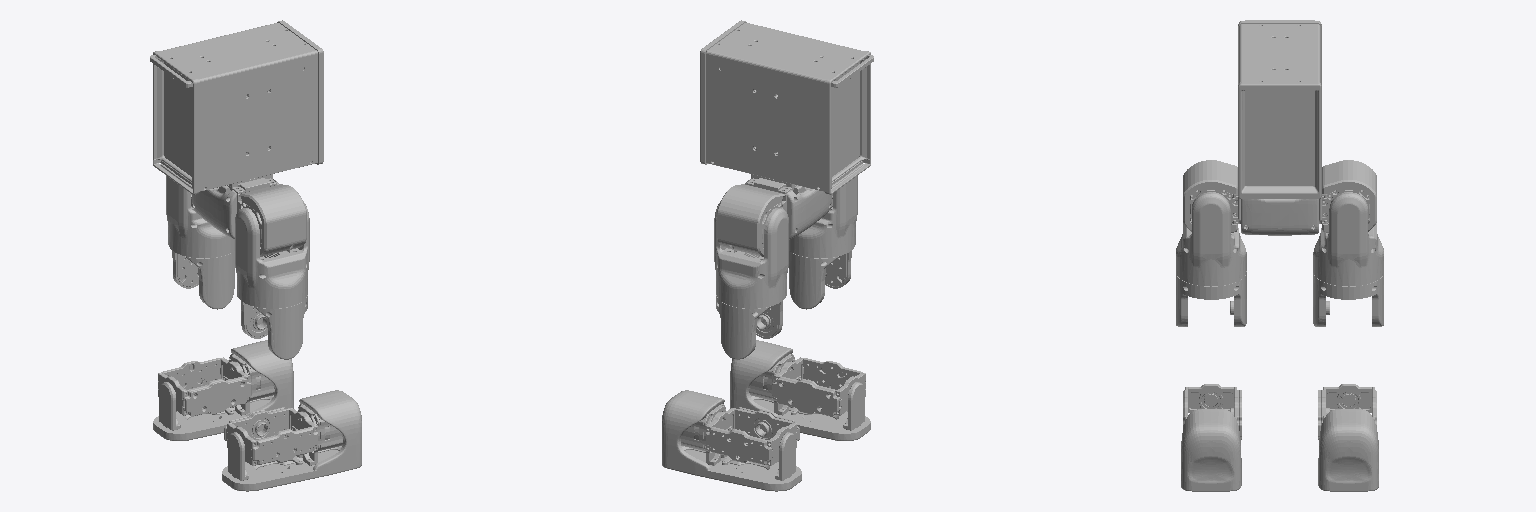
URDF robot description (pi_12dof_260120):
<?xml version="1.0" encoding="utf-8"?>
 <!-- This URDF was automatically created by SolidWorks to URDF Exporter! Originally created by Stephen Brawner (brawner@gmail.com) 
      Commit Version: 1.6.0-4-g7f85cfe  Build Version: 1.6.7995.38578
      For more information, please see http://wiki.ros.org/sw_urdf_exporter -->
 <robot name="pi_12dof_260120">
  <mujoco>
    <compiler meshdir="../meshes/" balanceinertia="true" discardvisual="false" inertiafromgeom="false" fusestatic="false" />
  </mujoco>

   <link name="base_link">
     <inertial>
       <origin xyz="-0.00014435 -1.66e-06 -0.04034123" rpy="0 0 0" />
       <mass value="0.98610884" />
       <inertia ixx="0.0012749" ixy="-2.85e-06" ixz="3.57e-06" iyy="0.00075879" iyz="0.0" izz="0.00116235" />
     </inertial>
     <visual>
       <origin xyz="0 0 0" rpy="0 0 0" />
       <geometry>
         <mesh filename="../meshes/base_link.STL" />
       </geometry>
       <material name="">
         <color rgba="0.752941176470588 0.752941176470588 0.752941176470588 1" />
       </material>
     </visual>
     <collision>
       <origin xyz="0 0 0" rpy="0 0 0" />
       <geometry>
         <mesh filename="../meshes/base_link.STL" />
       </geometry>
     </collision>
   </link>
   <link name="torso_link">
     <inertial>
       <origin xyz="0.00171631 -3.741e-05 0.07462587" rpy="0 0 0" />
       <mass value="1.44421644" />
       <inertia ixx="0.00478105" ixy="-1.64e-06" ixz="6.41e-06" iyy="0.00627031" iyz="-2.36e-06" izz="0.00482813" />
     </inertial>
     <visual>
       <origin xyz="0 0 0" rpy="0 0 0" />
       <geometry>
         <mesh filename="../meshes/torso_link.STL" />
       </geometry>
       <material name="">
         <color rgba="0.752941176470588 0.752941176470588 0.752941176470588 1" />
       </material>
     </visual>
     <collision>
       <origin xyz="0 0 0" rpy="0 0 0" />
       <geometry>
         <mesh filename="../meshes/torso_link.STL" />
       </geometry>
     </collision>
   </link>
   <joint name="torso_joint" type="fixed">
     <origin xyz="0 0 0" rpy="0 0 0" />
     <parent link="base_link" />
     <child link="torso_link" />
     <axis xyz="0 0 0" />
   </joint>
   <link name="r_hip_pitch_link">
     <inertial>
       <origin xyz="7.92e-05 -0.03190261 9.097e-05" rpy="0 0 0" />
       <mass value="0.45931392" />
       <inertia ixx="0.00027163" ixy="1.14e-06" ixz="-6.6e-07" iyy="0.00026494" iyz="-4.1e-07" izz="0.00027956" />
     </inertial>
     <visual>
       <origin xyz="0 0 0" rpy="0 0 0" />
       <geometry>
         <mesh filename="../meshes/r_hip_pitch_link.STL" />
       </geometry>
       <material name="">
         <color rgba="0.752941176470588 0.752941176470588 0.752941176470588 1" />
       </material>
     </visual>
     <collision>
       <origin xyz="0 0 0" rpy="0 0 0" />
       <geometry>
         <mesh filename="../meshes/r_hip_pitch_link.STL" />
       </geometry>
     </collision>
   </link>
   <joint name="r_hip_pitch_joint" type="revolute">
     <origin xyz="0 -0.0475 -0.0435" rpy="0 0 0" />
     <parent link="base_link" />
     <child link="r_hip_pitch_link" />
     <axis xyz="0 1 0" />
     <limit lower="-3.12" upper="2.94" effort="20" velocity="5.45" />
   <dynamics armature="0.01" />
   </joint>
   <link name="r_hip_roll_link">
     <inertial>
       <origin xyz="0.00102172 -0.00033797 -0.05845832" rpy="0 0 0" />
       <mass value="0.55820116" />
       <inertia ixx="0.00062111" ixy="-1.14e-06" ixz="-3.416e-05" iyy="0.00074025" iyz="-5.5e-07" izz="0.00041298" />
     </inertial>
     <visual>
       <origin xyz="0 0 0" rpy="0 0 0" />
       <geometry>
         <mesh filename="../meshes/r_hip_roll_link.STL" />
       </geometry>
       <material name="">
         <color rgba="0.752941176470588 0.752941176470588 0.752941176470588 1" />
       </material>
     </visual>
     <collision>
       <origin xyz="0 0 0" rpy="0 0 0" />
       <geometry>
         <mesh filename="../meshes/r_hip_roll_link.STL" />
       </geometry>
     </collision>
   </link>
   <joint name="r_hip_roll_joint" type="revolute">
     <origin xyz="0 -0.034 0" rpy="0 0 0" />
     <parent link="r_hip_pitch_link" />
     <child link="r_hip_roll_link" />
     <axis xyz="1 0 0" />
     <limit lower="-3.14" upper="0.17" effort="20" velocity="5.45" />
   <dynamics armature="0.01" />
   </joint>
   <link name="r_thigh_link">
     <inertial>
       <origin xyz="0.00064557 -0.00075206 -0.02084055" rpy="0 0 0" />
       <mass value="0.15484273" />
       <inertia ixx="0.00018778" ixy="4.5e-07" ixz="-8.8e-07" iyy="0.00010058" iyz="-5.6e-07" izz="0.00016124" />
     </inertial>
     <visual>
       <origin xyz="0 0 0" rpy="0 0 0" />
       <geometry>
         <mesh filename="../meshes/r_thigh_link.STL" />
       </geometry>
       <material name="">
         <color rgba="0.752941176470588 0.752941176470588 0.752941176470588 1" />
       </material>
     </visual>
     <collision>
       <origin xyz="0 0 0" rpy="0 0 0" />
       <geometry>
         <mesh filename="../meshes/r_thigh_link.STL" />
       </geometry>
     </collision>
   </link>
   <joint name="r_thigh_joint" type="revolute">
     <origin xyz="-0.00035 0 -0.0974" rpy="0 0 0" />
     <parent link="r_hip_roll_link" />
     <child link="r_thigh_link" />
     <axis xyz="0 0 1" />
     <limit lower="-2.87" upper="2.87" effort="20" velocity="5.45" />
   <dynamics armature="0.01" />
   </joint>
   <link name="r_calf_link">
     <inertial>
       <origin xyz="-1.001e-05 -0.00237049 -0.06661243" rpy="0 0 0" />
       <mass value="0.85852308" />
       <inertia ixx="0.00416941" ixy="-6e-08" ixz="-9.9e-06" iyy="0.00414652" iyz="-5.94e-06" izz="0.00042931" />
     </inertial>
     <visual>
       <origin xyz="0 0 0" rpy="0 0 0" />
       <geometry>
         <mesh filename="../meshes/r_calf_link.STL" />
       </geometry>
       <material name="">
         <color rgba="0.752941176470588 0.752941176470588 0.752941176470588 1" />
       </material>
     </visual>
     <collision>
       <origin xyz="0 0 0" rpy="0 0 0" />
       <geometry>
         <mesh filename="../meshes/r_calf_link.STL" />
       </geometry>
     </collision>
   </link>
   <joint name="r_calf_joint" type="revolute">
     <origin xyz="0 0 -0.045" rpy="0 0 0" />
     <parent link="r_thigh_link" />
     <child link="r_calf_link" />
     <axis xyz="0 1 0" />
     <limit lower="-2.14" upper="2.35" effort="20" velocity="5.45" />
   <dynamics armature="0.01" />
   </joint>
   <link name="r_ankle_pitch_link">
     <inertial>
       <origin xyz="0.00503044 0.00051345 -0.00016685" rpy="0 0 0" />
       <mass value="0.16352634" />
       <inertia ixx="0.00011538" ixy="4.2e-07" ixz="1.65e-06" iyy="0.00020824" iyz="-6.3e-07" izz="0.00028929" />
     </inertial>
     <visual>
       <origin xyz="0 0 0" rpy="0 0 0" />
       <geometry>
         <mesh filename="../meshes/r_ankle_pitch_link.STL" />
       </geometry>
       <material name="">
         <color rgba="0.752941176470588 0.752941176470588 0.752941176470588 1" />
       </material>
     </visual>
   </link>
   <joint name="r_ankle_pitch_joint" type="revolute">
     <origin xyz="0 0 -0.14" rpy="0 0 0" />
     <parent link="r_calf_link" />
     <child link="r_ankle_pitch_link" />
     <axis xyz="0 1 0" />
     <limit lower="-0.97" upper="0.92" effort="20" velocity="5.45" />
   <dynamics armature="0.01" />
   </joint>
   <link name="r_ankle_roll_link">
     <inertial>
       <origin xyz="0.0046213 8.211e-05 -0.01502099" rpy="0 0 0" />
       <mass value="0.61662552" />
       <inertia ixx="0.00054662" ixy="-8.4e-07" ixz="-0.00025529" iyy="0.00150792" iyz="8e-07" izz="0.0013343" />
     </inertial>
     <visual>
       <origin xyz="0 0 0" rpy="0 0 0" />
       <geometry>
         <mesh filename="../meshes/r_ankle_roll_link.STL" />
       </geometry>
       <material name="">
         <color rgba="0.752941176470588 0.752941176470588 0.752941176470588 1" />
       </material>
     </visual>
     <collision>
       <origin xyz="0 0 0" rpy="0 0 0" />
       <geometry>
         <mesh filename="../meshes/r_ankle_roll_link.STL" />
       </geometry>
     </collision>
   </link>
   <joint name="r_ankle_roll_joint" type="revolute">
     <origin xyz="0.051 0 0" rpy="0 0 0" />
     <parent link="r_ankle_pitch_link" />
     <child link="r_ankle_roll_link" />
     <axis xyz="1 0 0" />
     <limit lower="-0.78" upper="0.78" effort="20" velocity="5.45" />
   <dynamics armature="0.01" />
   </joint>
   <link name="l_hip_pitch_link">
     <inertial>
       <origin xyz="7.921e-05 0.03190246 -0.0001562" rpy="0 0 0" />
       <mass value="0.45931808" />
       <inertia ixx="0.00027163" ixy="-1.14e-06" ixz="-3.9e-07" iyy="0.00026494" iyz="-2.25e-06" izz="0.00027956" />
     </inertial>
     <visual>
       <origin xyz="0 0 0" rpy="0 0 0" />
       <geometry>
         <mesh filename="../meshes/l_hip_pitch_link.STL" />
       </geometry>
       <material name="">
         <color rgba="0.752941176470588 0.752941176470588 0.752941176470588 1" />
       </material>
     </visual>
     <collision>
       <origin xyz="0 0 0" rpy="0 0 0" />
       <geometry>
         <mesh filename="../meshes/l_hip_pitch_link.STL" />
       </geometry>
     </collision>
   </link>
   <joint name="l_hip_pitch_joint" type="revolute">
     <origin xyz="0 0.0475 -0.0435" rpy="0 0 0" />
     <parent link="base_link" />
     <child link="l_hip_pitch_link" />
     <axis xyz="0 1 0" />
     <limit lower="-3.12" upper="2.94" effort="20" velocity="5.45" />
   <dynamics armature="0.01" />
   </joint>
   <link name="l_hip_roll_link">
     <inertial>
       <origin xyz="0.00087873 1.341e-05 -0.05845832" rpy="0 0 0" />
       <mass value="0.55820115" />
       <inertia ixx="0.00062117" ixy="-1.07e-06" ixz="-3.583e-05" iyy="0.00074046" iyz="-1.6e-06" izz="0.00041325" />
     </inertial>
     <visual>
       <origin xyz="0 0 0" rpy="0 0 0" />
       <geometry>
         <mesh filename="../meshes/l_hip_roll_link.STL" />
       </geometry>
       <material name="">
         <color rgba="0.752941176470588 0.752941176470588 0.752941176470588 1" />
       </material>
     </visual>
     <collision>
       <origin xyz="0 0 0" rpy="0 0 0" />
       <geometry>
         <mesh filename="../meshes/l_hip_roll_link.STL" />
       </geometry>
     </collision>
   </link>
   <joint name="l_hip_roll_joint" type="revolute">
     <origin xyz="0 0.034 0" rpy="0 0 0" />
     <parent link="l_hip_pitch_link" />
     <child link="l_hip_roll_link" />
     <axis xyz="1 0 0" />
     <limit lower="-0.17" upper="3.14" effort="20" velocity="5.45" />
   <dynamics armature="0.01" />
   </joint>
   <link name="l_thigh_link">
     <inertial>
       <origin xyz="0.00071587 0.00075215 -0.0208406" rpy="0 0 0" />
       <mass value="0.15484236" />
       <inertia ixx="0.00018778" ixy="-2.2e-07" ixz="-1.13e-06" iyy="0.00010057" iyz="5.6e-07" izz="0.00016122" />
     </inertial>
     <visual>
       <origin xyz="0 0 0" rpy="0 0 0" />
       <geometry>
         <mesh filename="../meshes/l_thigh_link.STL" />
       </geometry>
       <material name="">
         <color rgba="0.752941176470588 0.752941176470588 0.752941176470588 1" />
       </material>
     </visual>
     <collision>
       <origin xyz="0 0 0" rpy="0 0 0" />
       <geometry>
         <mesh filename="../meshes/l_thigh_link.STL" />
       </geometry>
     </collision>
   </link>
   <joint name="l_thigh_joint" type="revolute">
     <origin xyz="-0.00035 0 -0.0974" rpy="0 0 0" />
     <parent link="l_hip_roll_link" />
     <child link="l_thigh_link" />
     <axis xyz="0 0 1" />
     <limit lower="-2.87" upper="2.87" effort="20" velocity="5.45" />
   <dynamics armature="0.01" />
   </joint>
   <link name="l_calf_link">
     <inertial>
       <origin xyz="-1.001e-05 0.00237048 -0.06661245" rpy="0 0 0" />
       <mass value="0.85852288" />
       <inertia ixx="0.00416941" ixy="6e-08" ixz="9.73e-06" iyy="0.00414651" iyz="5.94e-06" izz="0.00042931" />
     </inertial>
     <visual>
       <origin xyz="0 0 0" rpy="0 0 0" />
       <geometry>
         <mesh filename="../meshes/l_calf_link.STL" />
       </geometry>
       <material name="">
         <color rgba="0.752941176470588 0.752941176470588 0.752941176470588 1" />
       </material>
     </visual>
     <collision>
       <origin xyz="0 0 0" rpy="0 0 0" />
       <geometry>
         <mesh filename="../meshes/l_calf_link.STL" />
       </geometry>
     </collision>
   </link>
   <joint name="l_calf_joint" type="revolute">
     <origin xyz="0 0 -0.045" rpy="0 0 0" />
     <parent link="l_thigh_link" />
     <child link="l_calf_link" />
     <axis xyz="0 1 0" />
     <limit lower="-2.14" upper="2.35" effort="20" velocity="5.45" />
   <dynamics armature="0.01" />
   </joint>
   <link name="l_ankle_pitch_link">
     <inertial>
       <origin xyz="0.00503044 -0.00051345 -0.00016685" rpy="0 0 0" />
       <mass value="0.16352634" />
       <inertia ixx="0.00011538" ixy="-4.2e-07" ixz="1.65e-06" iyy="0.00020824" iyz="6.3e-07" izz="0.00028929" />
     </inertial>
     <visual>
       <origin xyz="0 0 0" rpy="0 0 0" />
       <geometry>
         <mesh filename="../meshes/l_ankle_pitch_link.STL" />
       </geometry>
       <material name="">
         <color rgba="0.752941176470588 0.752941176470588 0.752941176470588 1" />
       </material>
     </visual>
   </link>
   <joint name="l_ankle_pitch_joint" type="revolute">
     <origin xyz="0 0 -0.14" rpy="0 0 0" />
     <parent link="l_calf_link" />
     <child link="l_ankle_pitch_link" />
     <axis xyz="0 1 0" />
     <limit lower="-0.97" upper="0.92" effort="20" velocity="5.45" />
   <dynamics armature="0.01" />
   </joint>
   <link name="l_ankle_roll_link">
     <inertial>
       <origin xyz="0.00456214 8.211e-05 -0.01256536" rpy="0 0 0" />
       <mass value="0.61662552" />
       <inertia ixx="0.00054662" ixy="-8.4e-07" ixz="-0.00025529" iyy="0.00150792" iyz="8e-07" izz="0.0013343" />
     </inertial>
     <visual>
       <origin xyz="0 0 0" rpy="0 0 0" />
       <geometry>
         <mesh filename="../meshes/l_ankle_roll_link.STL" />
       </geometry>
       <material name="">
         <color rgba="0.752941176470588 0.752941176470588 0.752941176470588 1" />
       </material>
     </visual>
     <collision>
       <origin xyz="0 0 0" rpy="0 0 0" />
       <geometry>
         <mesh filename="../meshes/l_ankle_roll_link.STL" />
       </geometry>
     </collision>
   </link>
   <joint name="l_ankle_roll_joint" type="revolute">
     <origin xyz="0.051 0 0" rpy="0 0 0" />
     <parent link="l_ankle_pitch_link" />
     <child link="l_ankle_roll_link" />
     <axis xyz="1 0 0" />
     <limit lower="-0.78" upper="0.78" effort="20" velocity="5.45" />
   <dynamics armature="0.01" />
   </joint>
 </robot>

--- What the picture shows (computed from the rendered views, not written in the file) ---
3 views of the same robot in one strip: view 1: azimuth 30°, elevation 25°; view 2: azimuth 150°, elevation 25°; view 3: azimuth 270°, elevation 25° (orthographic).
Robot: pi_12dof_260120 — 14 links, 13 joints (12 revolute, 1 fixed); root link base_link; default pose: every joint at zero.
Visible links, largest first — view 1: torso_link, r_ankle_roll_link, l_ankle_roll_link, r_hip_roll_link, l_ankle_pitch_link, r_ankle_pitch_link, r_hip_pitch_link, l_hip_roll_link, r_thigh_link, l_thigh_link, base_link; view 2: torso_link, l_ankle_roll_link, r_ankle_roll_link, l_hip_roll_link, r_ankle_pitch_link, l_ankle_pitch_link, l_hip_pitch_link, r_hip_roll_link, l_thigh_link, r_thigh_link, base_link; view 3: torso_link, r_hip_roll_link, l_hip_roll_link, r_ankle_roll_link, l_ankle_roll_link, base_link, r_hip_pitch_link, l_hip_pitch_link, r_thigh_link, l_thigh_link, l_ankle_pitch_link, r_ankle_pitch_link.
Link boxes in pixels (x1=…): torso_link: x1=150, y1=20, x2=323, y2=194; r_ankle_roll_link: x1=222, y1=390, x2=361, y2=491; l_ankle_roll_link: x1=153, y1=340, x2=293, y2=440; r_hip_roll_link: x1=235, y1=201, x2=309, y2=308; l_ankle_pitch_link: x1=158, y1=357, x2=251, y2=415; r_ankle_pitch_link: x1=224, y1=407, x2=317, y2=465; r_hip_pitch_link: x1=238, y1=184, x2=306, y2=256; l_hip_roll_link: x1=166, y1=176, x2=234, y2=258; r_thigh_link: x1=241, y1=295, x2=307, y2=359; l_thigh_link: x1=172, y1=251, x2=234, y2=309; base_link: x1=192, y1=174, x2=278, y2=239; torso_link: x1=700, y1=20, x2=873, y2=194; l_ankle_roll_link: x1=662, y1=390, x2=801, y2=491; r_ankle_roll_link: x1=730, y1=340, x2=870, y2=440; l_hip_roll_link: x1=714, y1=201, x2=788, y2=308; r_ankle_pitch_link: x1=772, y1=357, x2=865, y2=415; l_ankle_pitch_link: x1=706, y1=407, x2=799, y2=465; l_hip_pitch_link: x1=717, y1=184, x2=785, y2=256; r_hip_roll_link: x1=789, y1=176, x2=857, y2=258; l_thigh_link: x1=716, y1=295, x2=782, y2=359; r_thigh_link: x1=789, y1=251, x2=851, y2=309; base_link: x1=745, y1=174, x2=831, y2=239; torso_link: x1=1238, y1=20, x2=1321, y2=198; r_hip_roll_link: x1=1176, y1=192, x2=1246, y2=286; l_hip_roll_link: x1=1313, y1=192, x2=1383, y2=286; r_ankle_roll_link: x1=1181, y1=394, x2=1241, y2=491; l_ankle_roll_link: x1=1318, y1=394, x2=1378, y2=491; base_link: x1=1238, y1=197, x2=1321, y2=235; r_hip_pitch_link: x1=1183, y1=160, x2=1237, y2=232; l_hip_pitch_link: x1=1322, y1=160, x2=1376, y2=232; r_thigh_link: x1=1176, y1=271, x2=1246, y2=326; l_thigh_link: x1=1313, y1=273, x2=1383, y2=326; l_ankle_pitch_link: x1=1318, y1=384, x2=1376, y2=439; r_ankle_pitch_link: x1=1183, y1=384, x2=1241, y2=439.
Bounding box of the posed robot: 0.2076 × 0.247 × 0.5234 m (x, y, z).
12 mesh visuals loaded from 14 distinct referenced files (12 binary STL); not drawn: 2 (reference not matched to a file when rendering).
